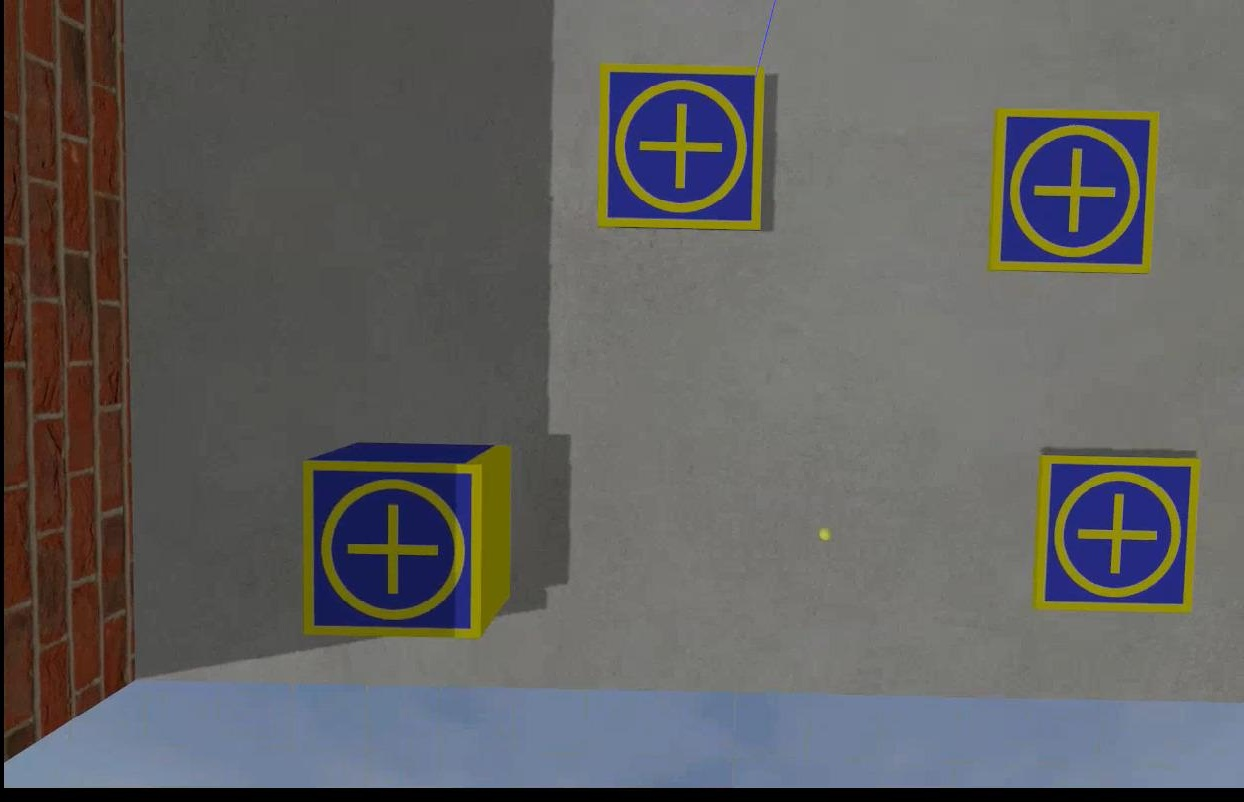small_base: (299, 460, 484, 643), (596, 64, 767, 232), (984, 110, 1159, 272), (1031, 450, 1200, 617)
